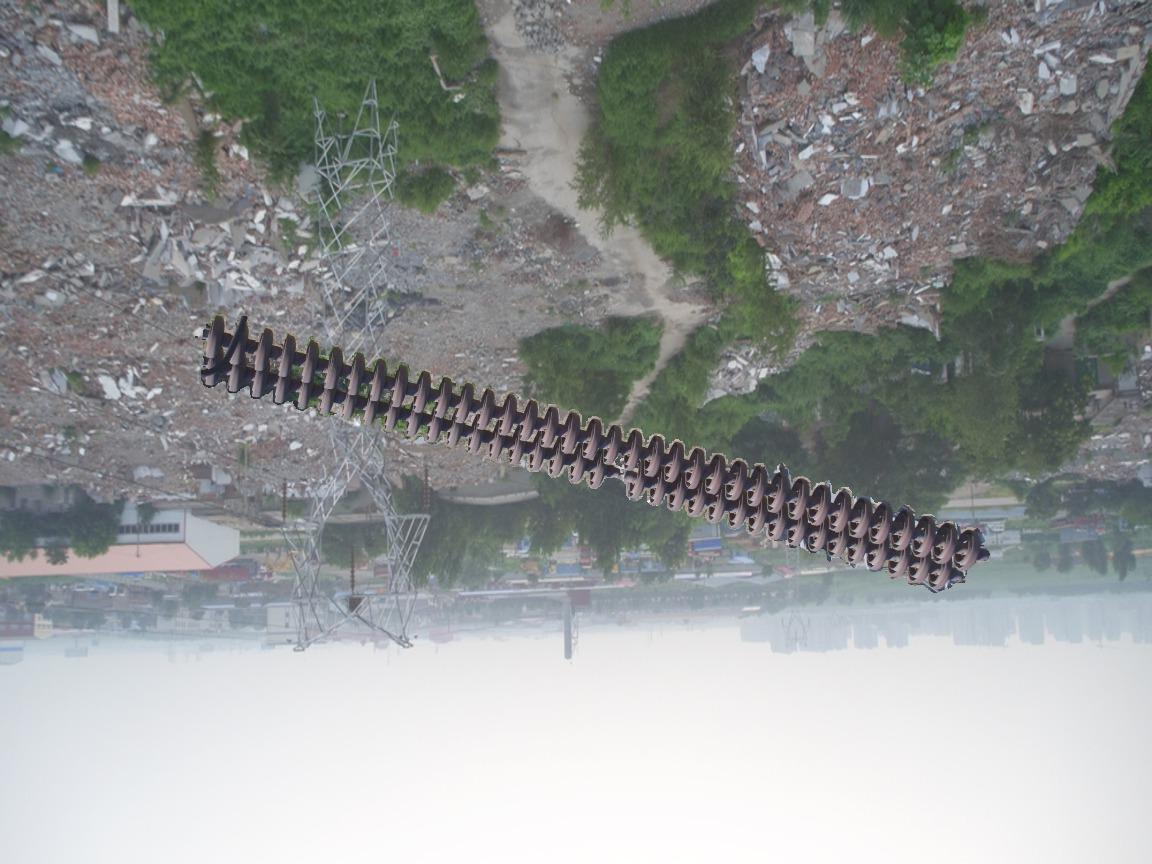insulator: (193, 310, 992, 600), (344, 546, 361, 596), (421, 463, 437, 512), (275, 477, 293, 519)
insulator_stringdrop: (583, 450, 648, 505)
